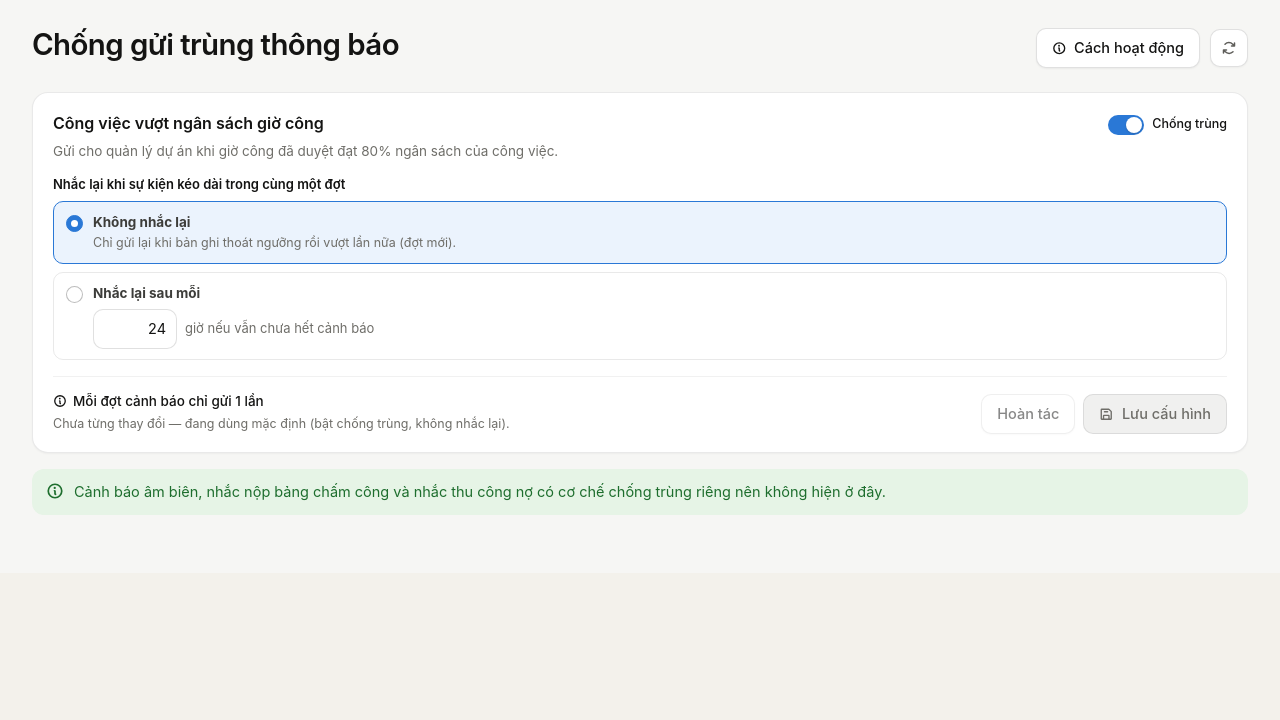
Test: NotificationDedupConfigPage (NCL-14-CN-003) › TC-04: đặt nhắc lại sau 24 giờ rồi lưu gửi đúng payload và hiện người cập nhật/thời điểm từ máy chủ
Click the radio button labelled "Nhắc lại sau mỗi giờ nếu vẫn chưa hết cảnh báo" at (74, 294), box [66,286,83,302]
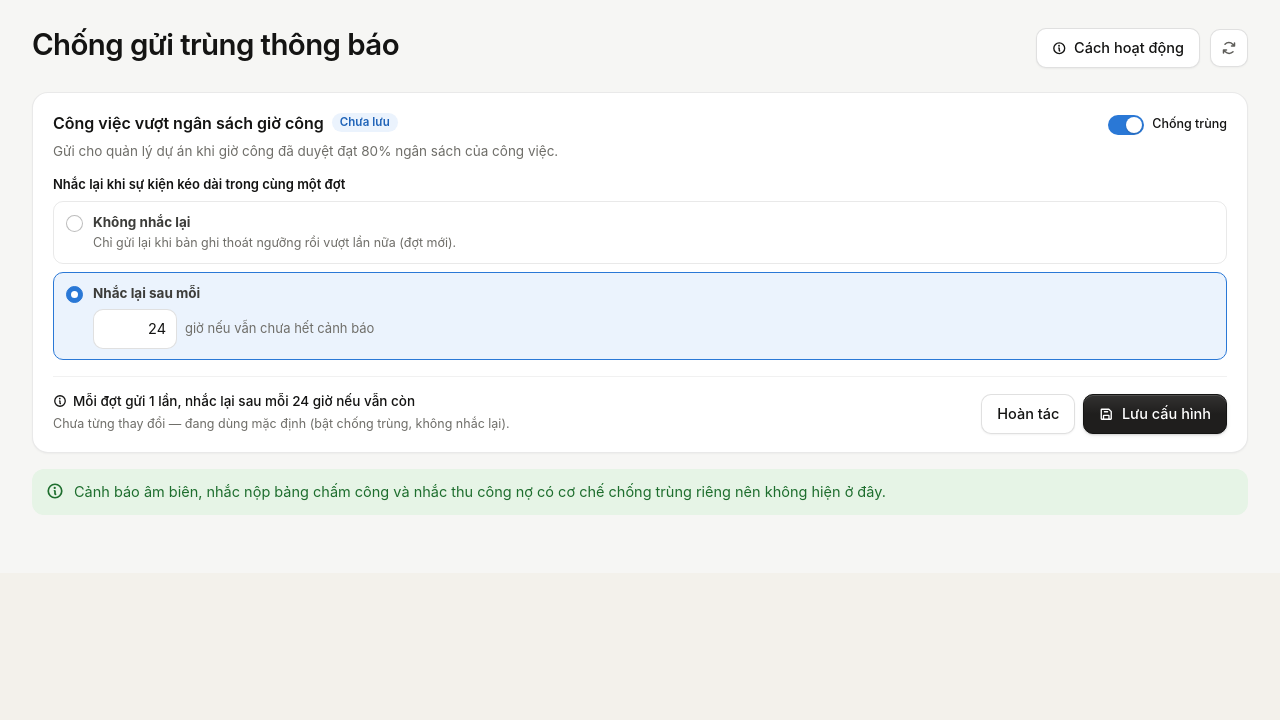
Click the button "Lưu cấu hình" at (1155, 414), box [1083,394,1227,434]
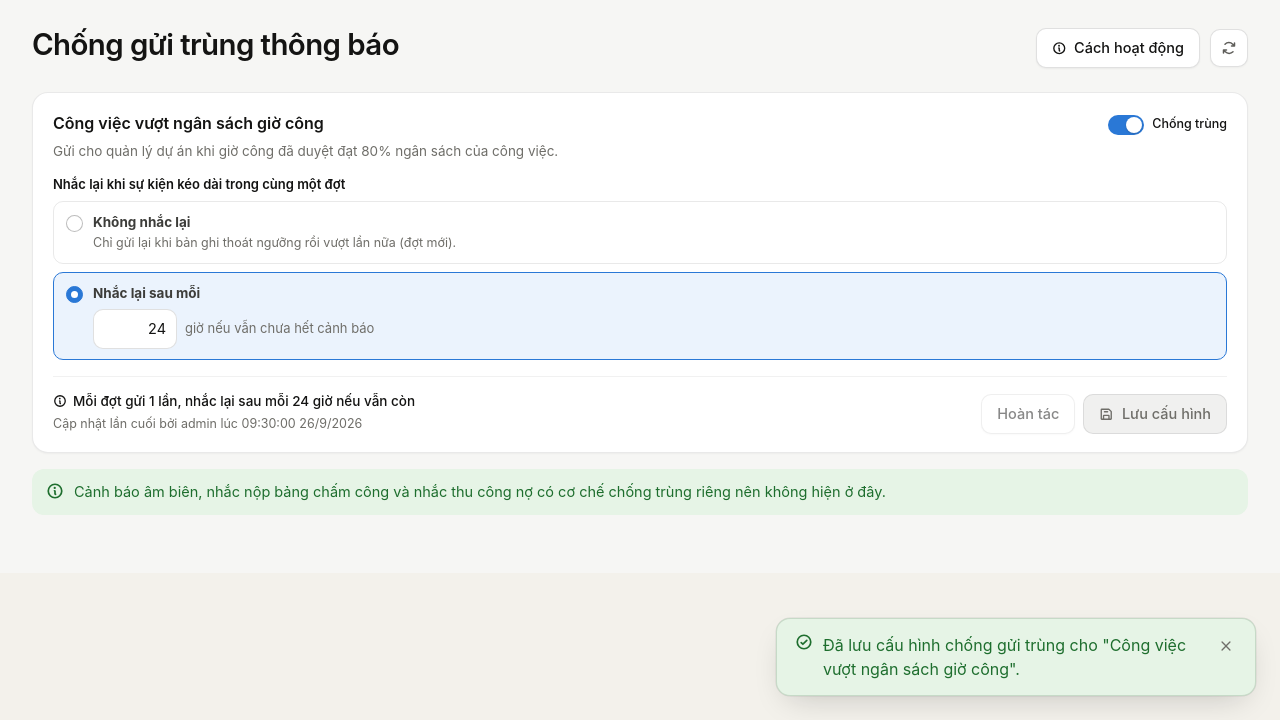
Expected: the text "Đã lưu cấu hình chống gửi trùng" is shown, [823,635,1186,679]
